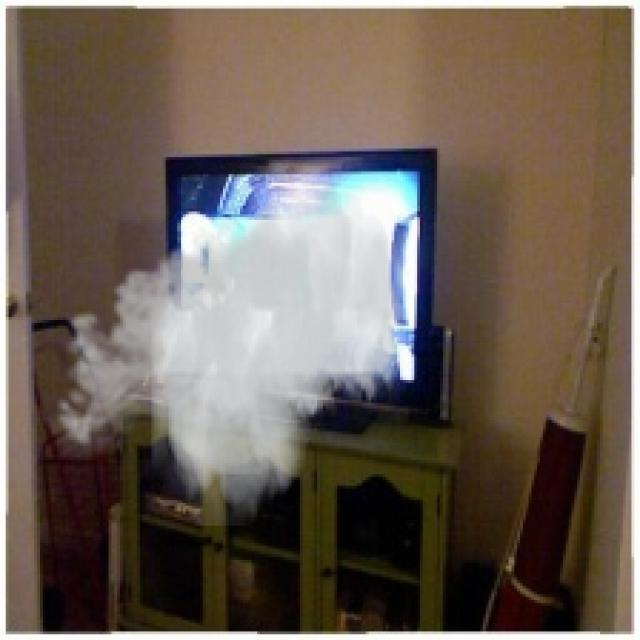Smoke: (46, 157, 406, 526)
